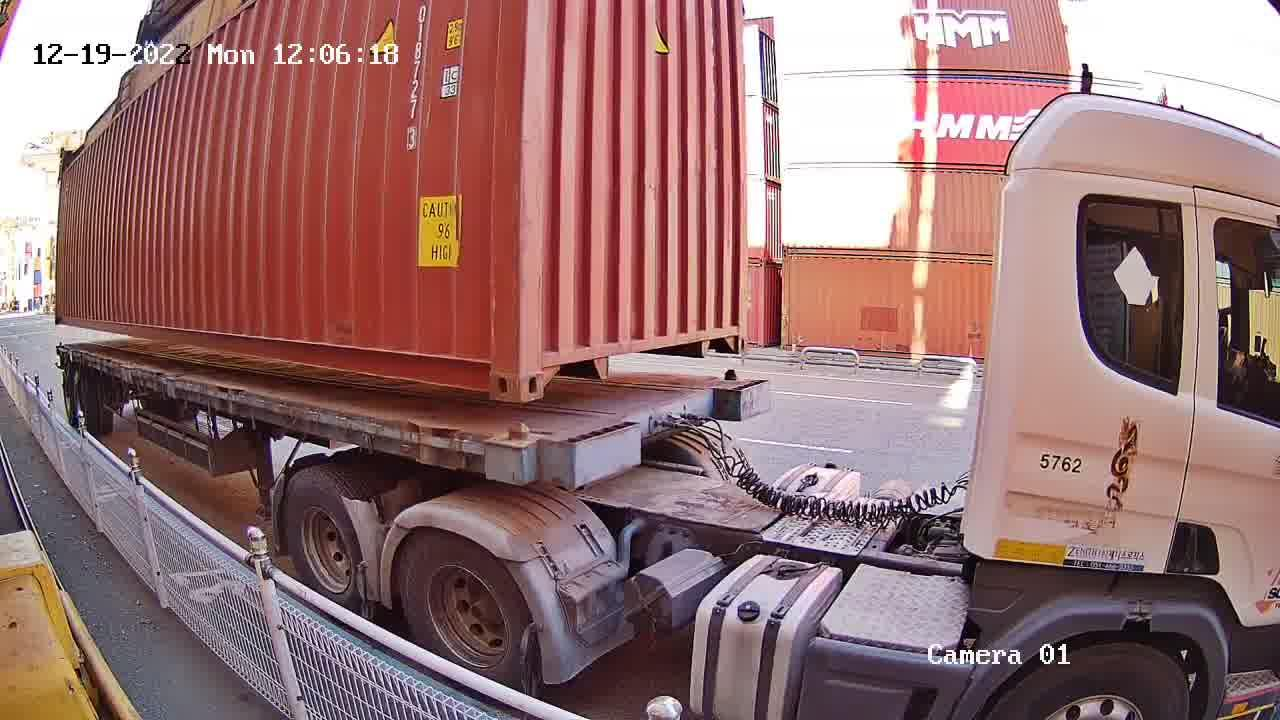Chassis: (488, 379, 762, 487)
Cone: (498, 419, 532, 459), (719, 368, 741, 384)
Hole_L: (519, 340, 567, 402)
Hole_R: (465, 338, 514, 398), (716, 312, 749, 358)
Tire: (399, 531, 526, 682), (282, 472, 363, 605)
